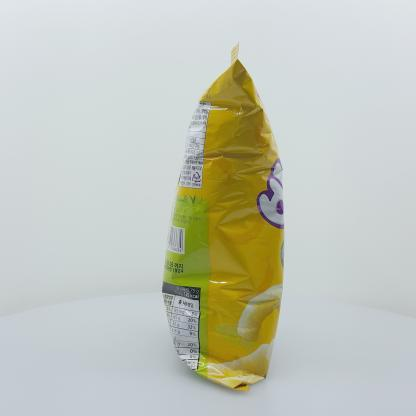Plastic Packaging: (154, 37, 294, 397)
